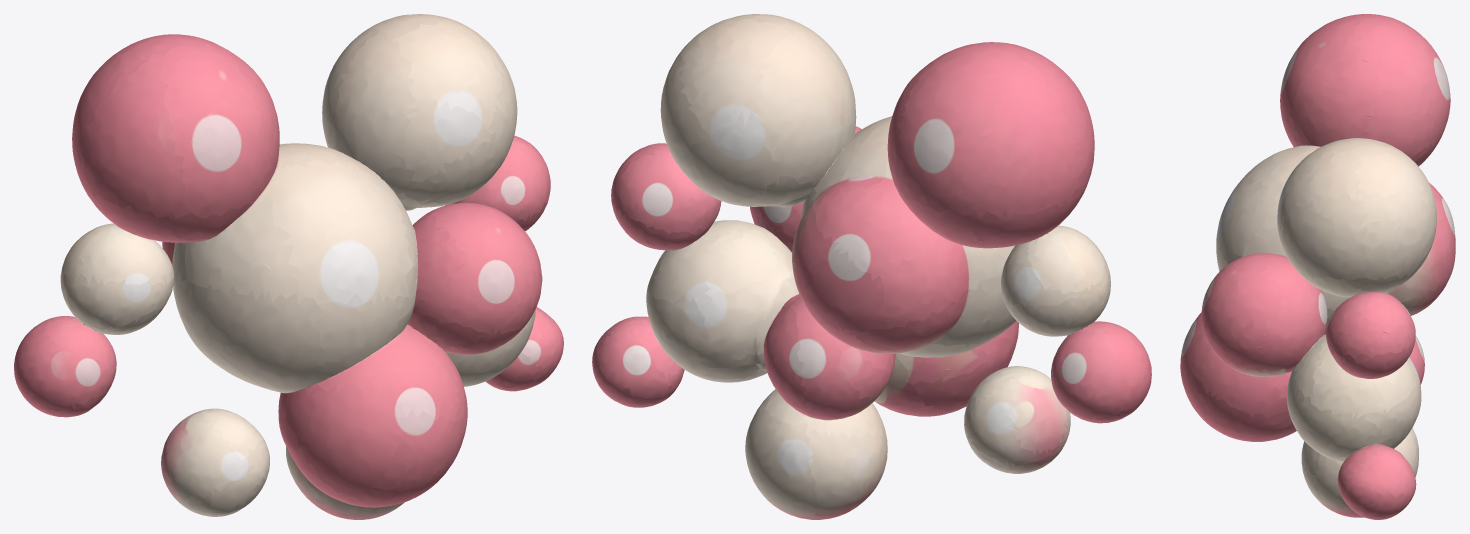
File: helium-crystal.glb
3 views of the same model, side by side, from view 1: azimuth 30°, elevation 25°; view 2: azimuth 150°, elevation 25°; view 3: azimuth 270°, elevation 25° (orthographic). The views are drawn at different scales.
Parts seen in each view (by area): view 1: Mesh_0; view 2: Mesh_0; view 3: Mesh_0.
Part boxes in pixels (bbox=[...]): Mesh_0: bbox=[14, 14, 563, 519]; Mesh_0: bbox=[592, 14, 1151, 519]; Mesh_0: bbox=[1180, 14, 1455, 519].
Bounding box in the file's own units: 1.27 × 1.14 × 0.6801.
Materials: 1 (1 with a texture image).
